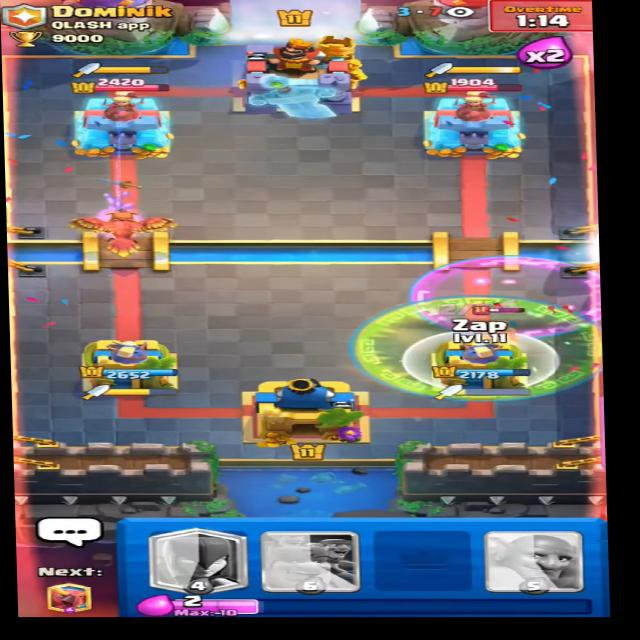ram-rider: (469, 301, 537, 354)
